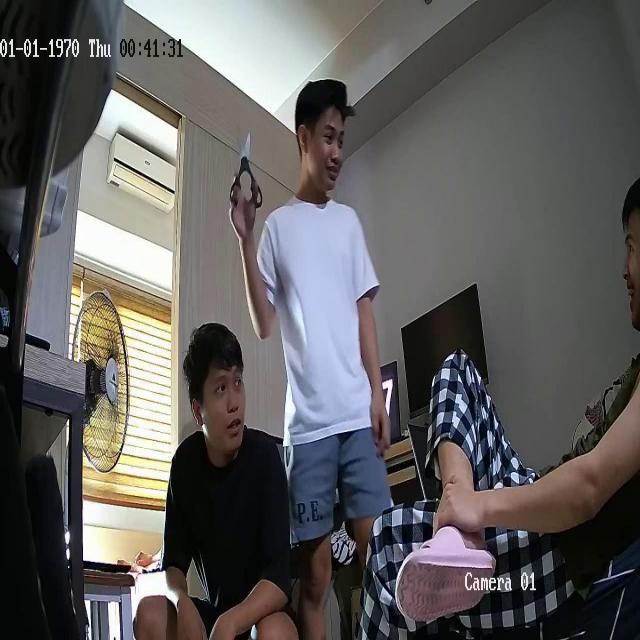scissor: (230, 132, 262, 208)
